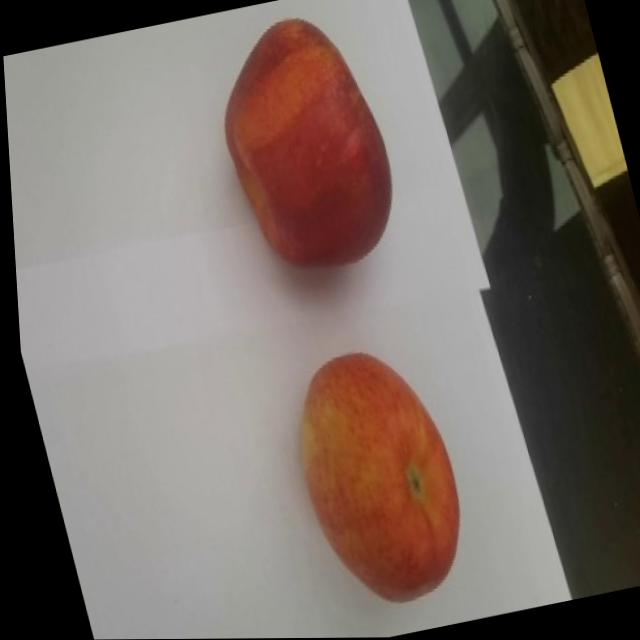Apple: (196, 6, 410, 283), (270, 338, 477, 617)
